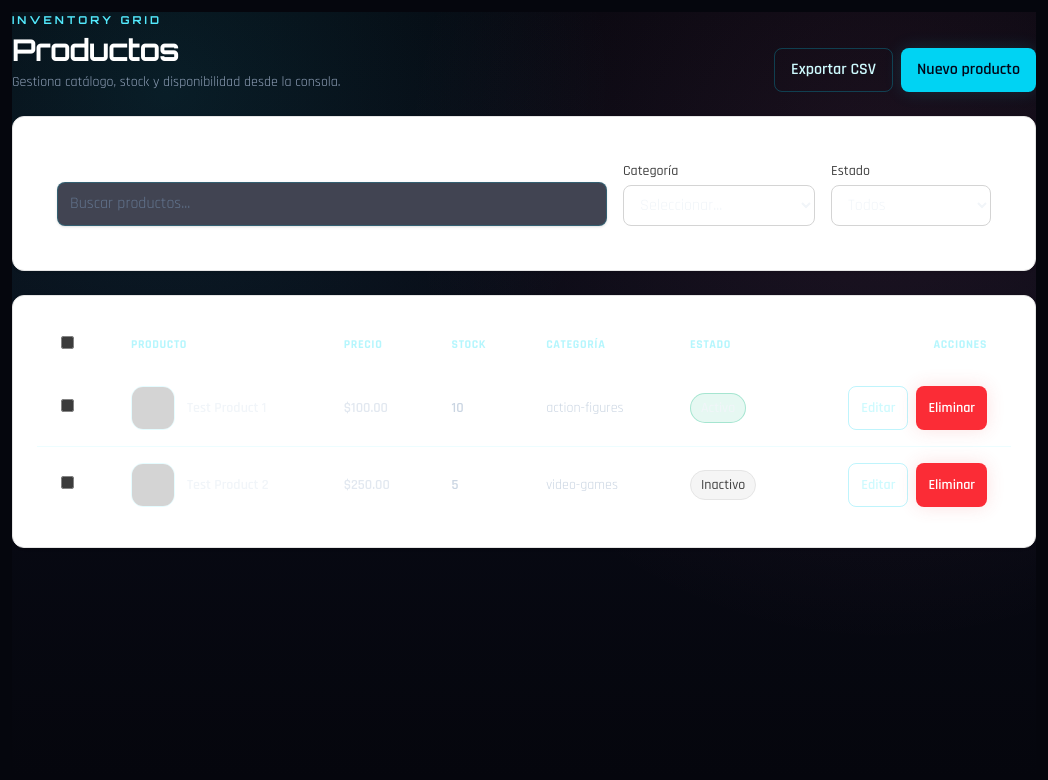
Test: AdminProductsPage › filters products by search term
Type "Product 1" into the field with placeholder "Buscar productos..." at (332, 204), box x1=57 y1=182 x2=607 y2=226
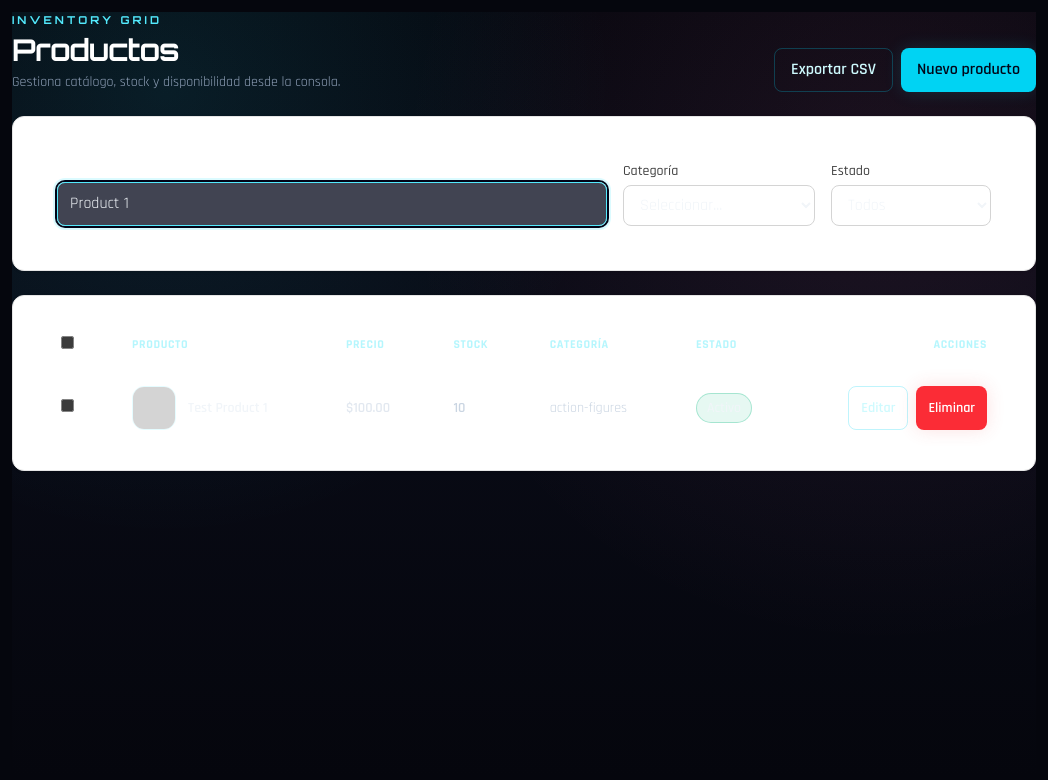
Now the text "Test Product 2" is gone
